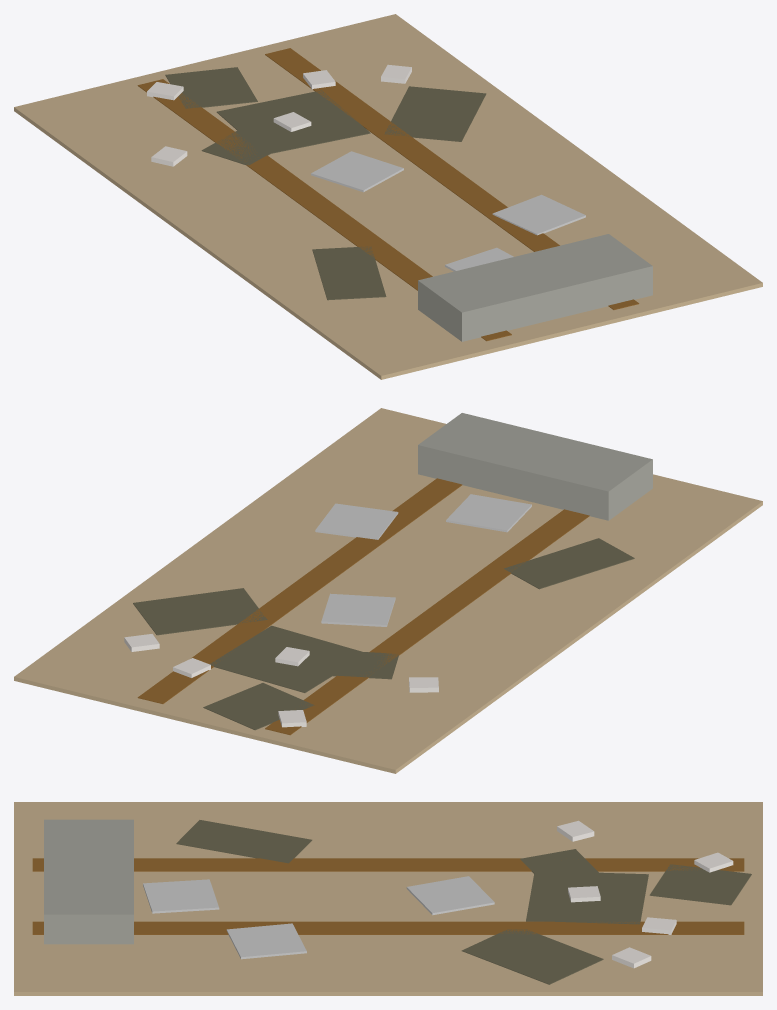
Rendered from SM_Solar_v3_Despejado_LOD1.fbx.
The picture shows the model from 3 angles, top to bottom: view 1: azimuth 30°, elevation 25°; view 2: azimuth 150°, elevation 25°; view 3: azimuth 270°, elevation 25°; orthographic projection.
Parts seen in each view (by area): view 1: SM_sagunto_vivo_v8_LOD1; view 2: SM_sagunto_vivo_v8_LOD1; view 3: SM_sagunto_vivo_v8_LOD1.
Boxes of the visible parts, x1=… form: SM_sagunto_vivo_v8_LOD1: x1=14, y1=14, x2=762, y2=379; SM_sagunto_vivo_v8_LOD1: x1=14, y1=408, x2=762, y2=773; SM_sagunto_vivo_v8_LOD1: x1=14, y1=802, x2=762, y2=995.
Bounding box in the file's own units: 6 × 0.5 × 10.
